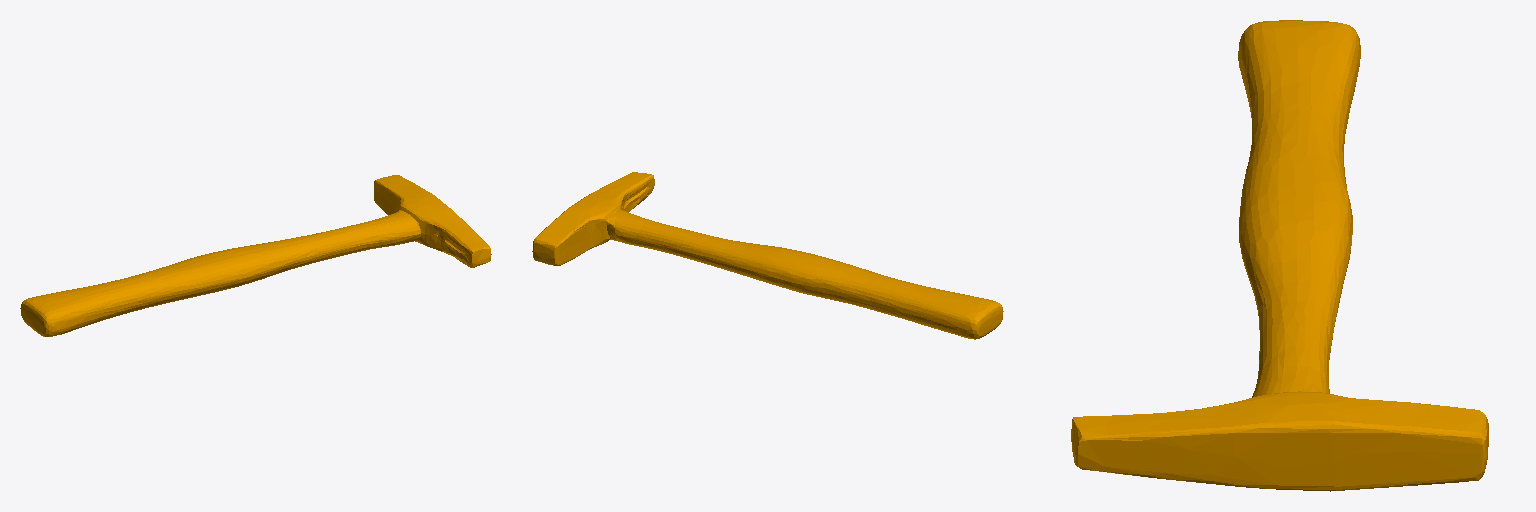
robot.urdf — new_hammer_2:
<?xml version="1.0"?>
<robot name="new_hammer_2">
  <link name="new_hammer_2">
    <visual>
      <origin xyz="0 0 0" rpy="0 0 0"/>
      <geometry>
        <mesh filename="new_hammer_2.obj" scale="1 1 1"/>
      </geometry>
    </visual>
    <collision>
      <origin xyz="0 0 0" rpy="0 0 0"/>
      <geometry>
        <mesh filename="new_hammer_2.obj" scale="1 1 1"/>
      </geometry>
    </collision>
    <inertial>
      <density value="400.0"/>
    </inertial>
  </link>
</robot>

--- What the picture shows (computed from the rendered views, not written in the file) ---
Views: 3 orthographic renders of the robot side by side, from view 1: azimuth 30°, elevation 25°; view 2: azimuth 150°, elevation 25°; view 3: azimuth 270°, elevation 25°.
Model new_hammer_2 with 1 links and 0 joints (none), rooted at new_hammer_2, posed every joint at zero.
Links seen in each view (by area): view 1: new_hammer_2; view 2: new_hammer_2; view 3: new_hammer_2.
Boxes of the visible links, <box> form: new_hammer_2: <box>20,175,491,336</box>; new_hammer_2: <box>532,172,1003,339</box>; new_hammer_2: <box>1071,20,1488,491</box>.
Bounding box of the posed robot: 0.2648 × 0.1101 × 0.0204 m (x, y, z).
Meshes: 1 distinct files referenced, 1 mesh visuals loaded (1 OBJ).
